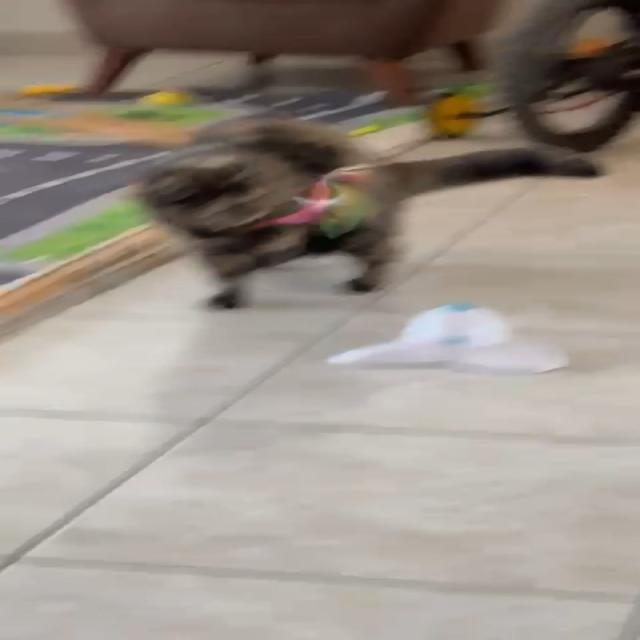authorized: (127, 114, 602, 310)
